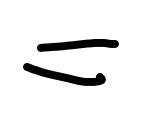eqv: (23, 37, 119, 86)
